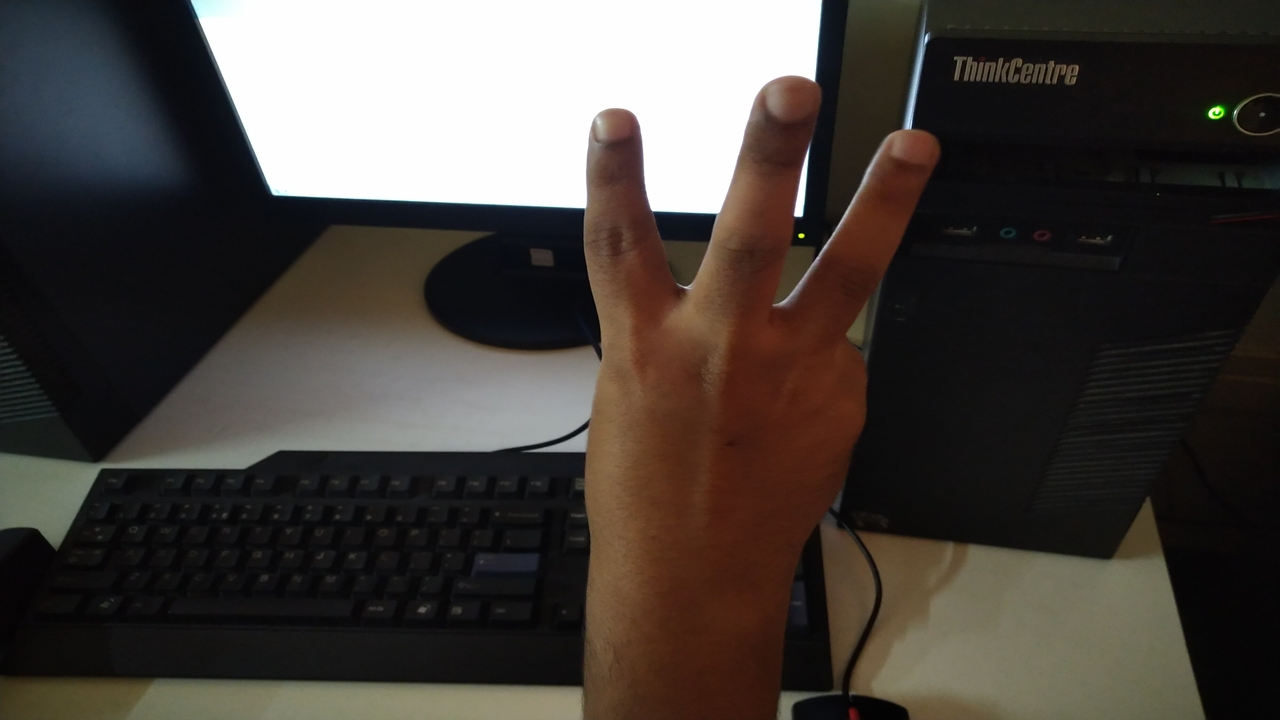fingertip: (750, 68, 824, 136), (582, 104, 644, 158), (882, 124, 946, 176)
